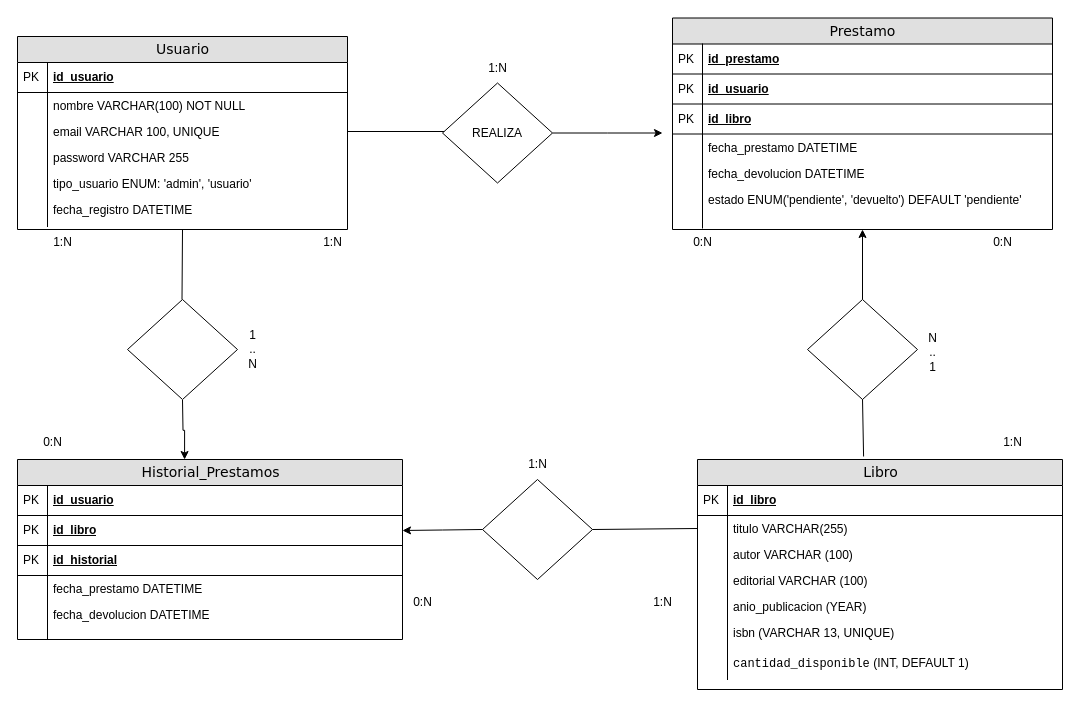
Image size: 1080x707. Some labels were removed from this diagram. The centre of each missing label's shape, as x and y in pixels:
"HACER" goes at point 182,349.
"PRESTADO" goes at point 537,529.
"PUEDE HACER" goes at point 862,349.
